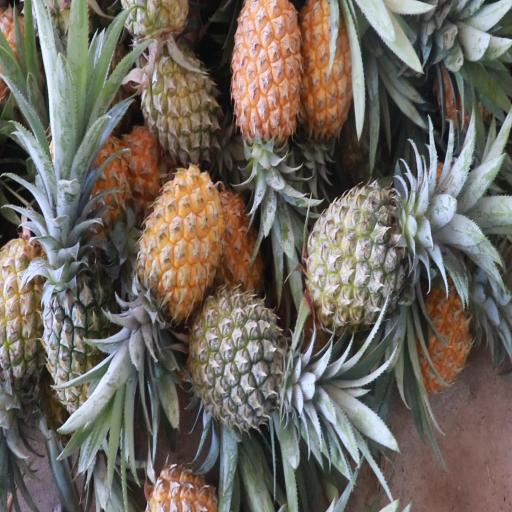------------------------------: (0, 239, 51, 472)
Pineapple - v8 v1: (122, 163, 226, 349), (229, 1, 301, 214), (301, 1, 357, 164)
